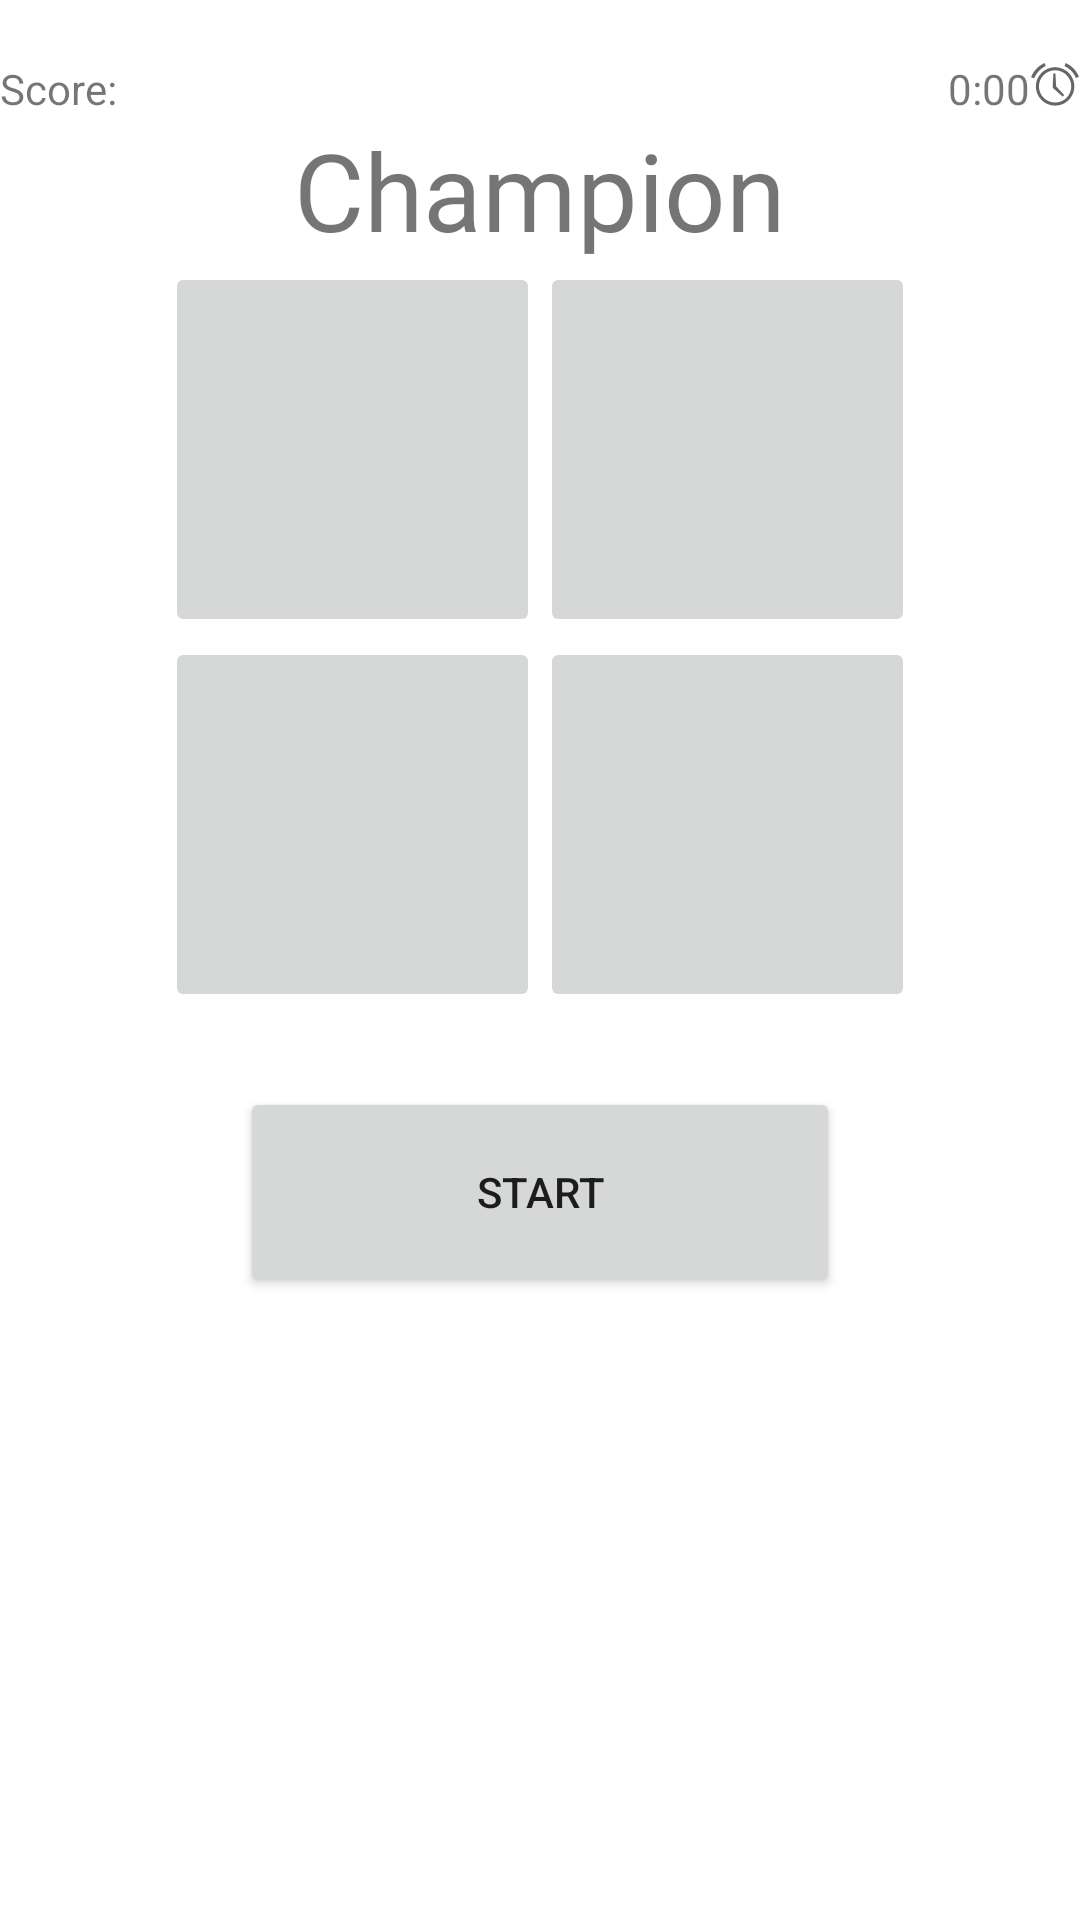

Icons on this 1080w x 1920h Android screen, each with the point to tap as [x,y]:
lock idle alarm: [1055,84]
